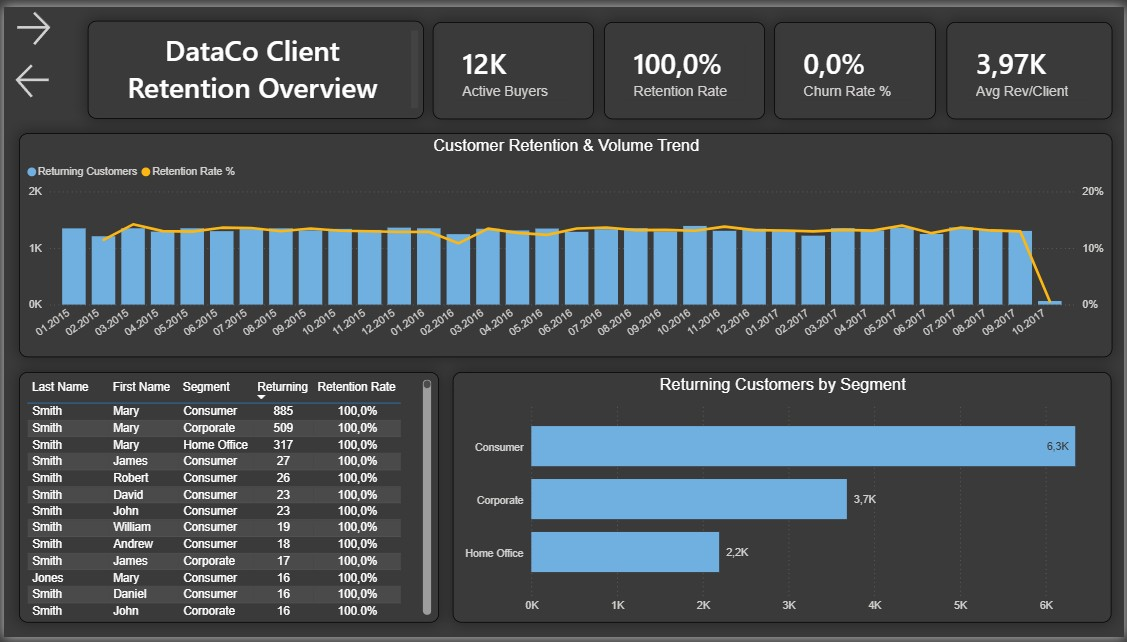

This screenshot's page, from the dashboard's own definition file:
{"tool":"powerbi","page":{"name":"Customer Retention","canvas":[1280,720],"ordinal":3},"visuals":[{"type":"tableEx","fields":{"Values":["Dim_Customer.Customer_Lname","Dim_Customer.Customer_Fname","Dim_Customer.Customer_Segment","_Measures.Returning Customers","_Measures.Retention Rate %"]},"box":[16.7,417.4,480,286.6],"z":0},{"type":"lineStackedColumnComboChart","fields":{"Category":["Dim_Date.MonthYearNum"],"Y":["_Measures.Returning Customers"],"Y2":["_Measures.Retention Rate %"]},"box":[16.7,144.7,1249.4,256],"z":1000},{"type":"cardVisual","fields":{"Data":["_Measures.Churn Rate %"]},"box":[880.4,16.7,185,111.3],"z":4000},{"type":"actionButton","box":[7.9,59.4,96,49.1],"z":4000,"group":"g1"},{"type":"actionButton","box":[7.9,0,96,49.1],"z":5000,"group":"g1"},{"type":"cardVisual","fields":{"Data":["_Measures.Returning Customers"]},"box":[490.4,16.7,183.7,111.3],"z":8000},{"type":"cardVisual","fields":{"Data":["_Measures.Retention Rate %"]},"box":[685.4,16.7,183.7,111.3],"z":9000},{"type":"barChart","fields":{"Category":["Dim_Customer.Customer_Segment"],"Y":["_Measures.Returning Customers"]},"box":[513.4,417.4,752.7,286.6],"z":10000},{"type":"group","id":"g1","title":"Filter Pane","box":[0,0,160,720],"z":11000},{"type":"textbox","box":[95,16,384,112],"z":12000},{"type":"cardVisual","fields":{"Data":["_Measures.AVG Revenue per Customer"]},"box":[1076.9,16.7,189.2,111.3],"z":13000}]}

Visuals, with their boxes in screenshot pixels (x1, y1, x2, y2), scaled from the page's 1280x720 canvas onto the 1127x642 screenshot:
tableEx - Dim_Customer.Customer_Lname x Dim_Customer.Customer_Fname: <box>15,372,437,628</box>
lineStackedColumnComboChart - Dim_Date.MonthYearNum x _Measures.Returning Customers: <box>15,129,1115,357</box>
cardVisual - _Measures.Churn Rate %: <box>775,15,938,114</box>
actionButton: <box>7,53,91,97</box>
actionButton: <box>7,0,91,44</box>
cardVisual - _Measures.Returning Customers: <box>432,15,594,114</box>
cardVisual - _Measures.Retention Rate %: <box>603,15,765,114</box>
barChart - Dim_Customer.Customer_Segment x _Measures.Returning Customers: <box>452,372,1115,628</box>
"Filter Pane" group: <box>0,0,141,641</box>
textbox: <box>84,14,422,114</box>
cardVisual - _Measures.AVG Revenue per Customer: <box>948,15,1115,114</box>
